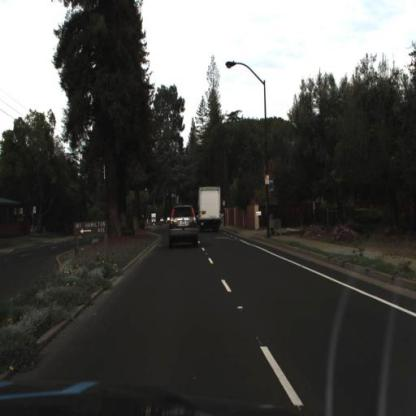car: (164, 198, 200, 256), (194, 181, 228, 235)
truck: (197, 182, 223, 232), (150, 211, 156, 225)
